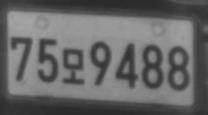4: (115, 42, 139, 88)
5: (37, 38, 58, 82)
7: (10, 36, 33, 81)
8: (141, 43, 163, 89), (167, 45, 189, 91)
9: (88, 40, 112, 86)
모: (60, 48, 85, 84)
